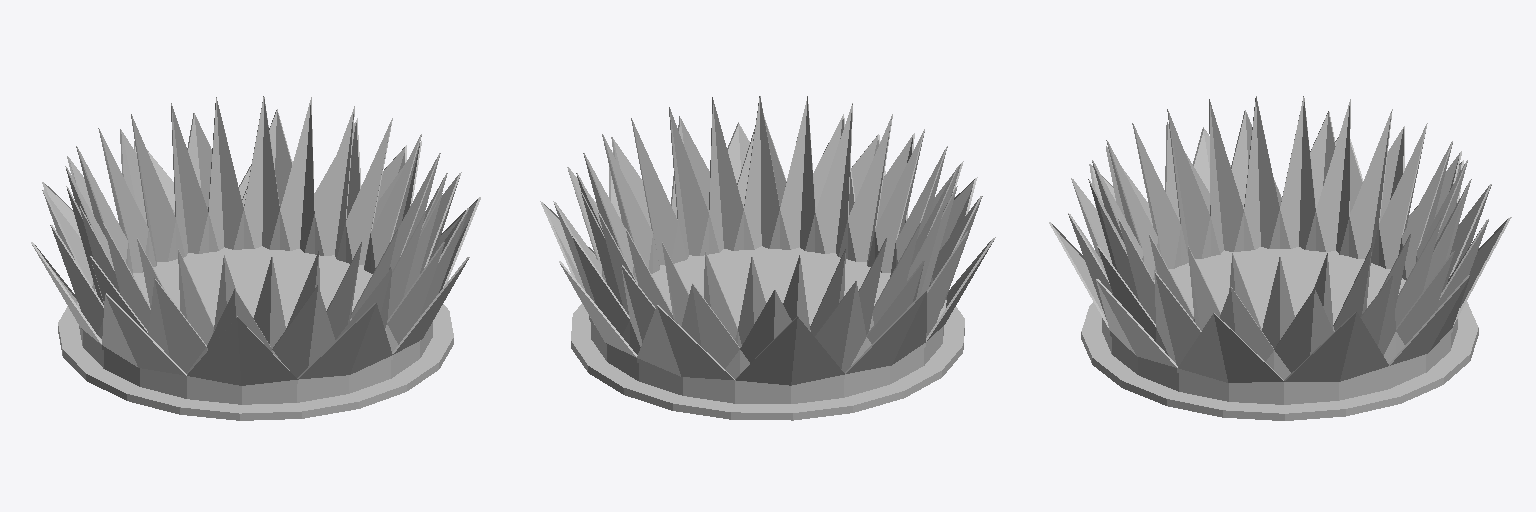
File: portal_000026.obj
3 views of the same model, side by side, from view 1: azimuth 30°, elevation 25°; view 2: azimuth 150°, elevation 25°; view 3: azimuth 270°, elevation 25° (orthographic).
Visible parts, largest first — view 1: Cylinder.001, pCylinder1, Cylinder; view 2: Cylinder.001, pCylinder1, Cylinder; view 3: Cylinder.001, pCylinder1, Cylinder.
Part boxes in pixels (bbox=[...]): Cylinder.001: bbox=[65, 96, 447, 348]; pCylinder1: bbox=[31, 141, 480, 420]; Cylinder: bbox=[42, 109, 469, 377]; Cylinder.001: bbox=[576, 96, 958, 347]; pCylinder1: bbox=[540, 122, 995, 420]; Cylinder: bbox=[553, 114, 982, 378]; Cylinder.001: bbox=[1088, 96, 1471, 348]; pCylinder1: bbox=[1049, 127, 1511, 420]; Cylinder: bbox=[1068, 110, 1491, 379].
Size of the model in its own units: 7.14 by 2.9 by 7.45.